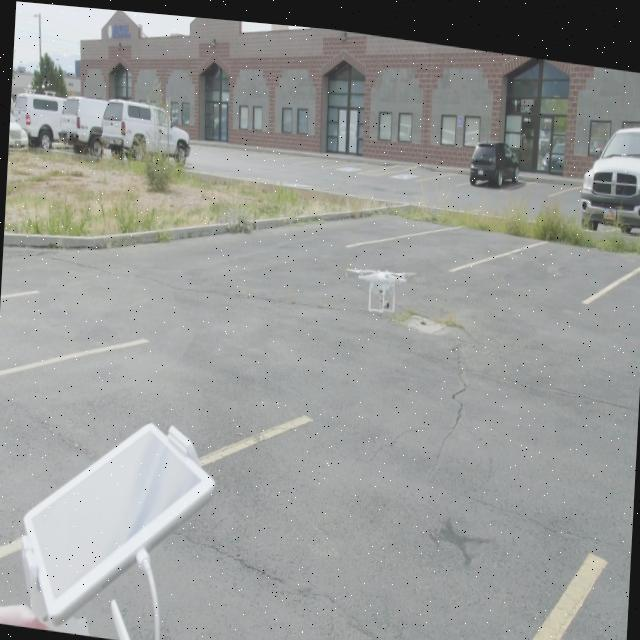drone: (348, 254, 416, 314)
